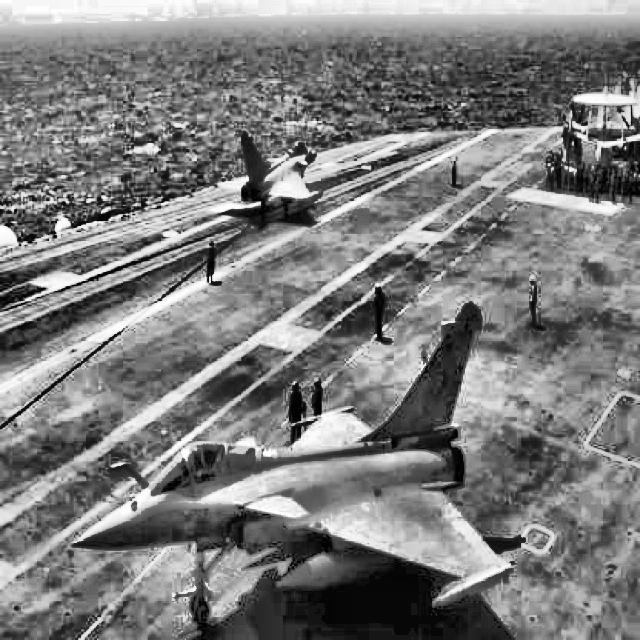E2: (563, 85, 640, 168)
Rafale: (70, 301, 515, 624), (217, 130, 323, 216)
